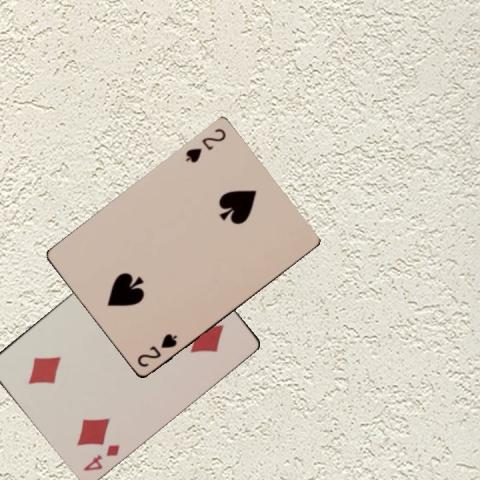2s: (183, 125, 227, 165), (134, 331, 179, 369)
4d: (80, 440, 122, 472)
